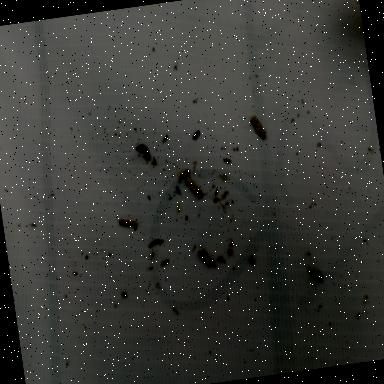pbw: (246, 112, 267, 141), (182, 174, 204, 201), (196, 244, 216, 270), (116, 214, 142, 229), (306, 262, 324, 283)
